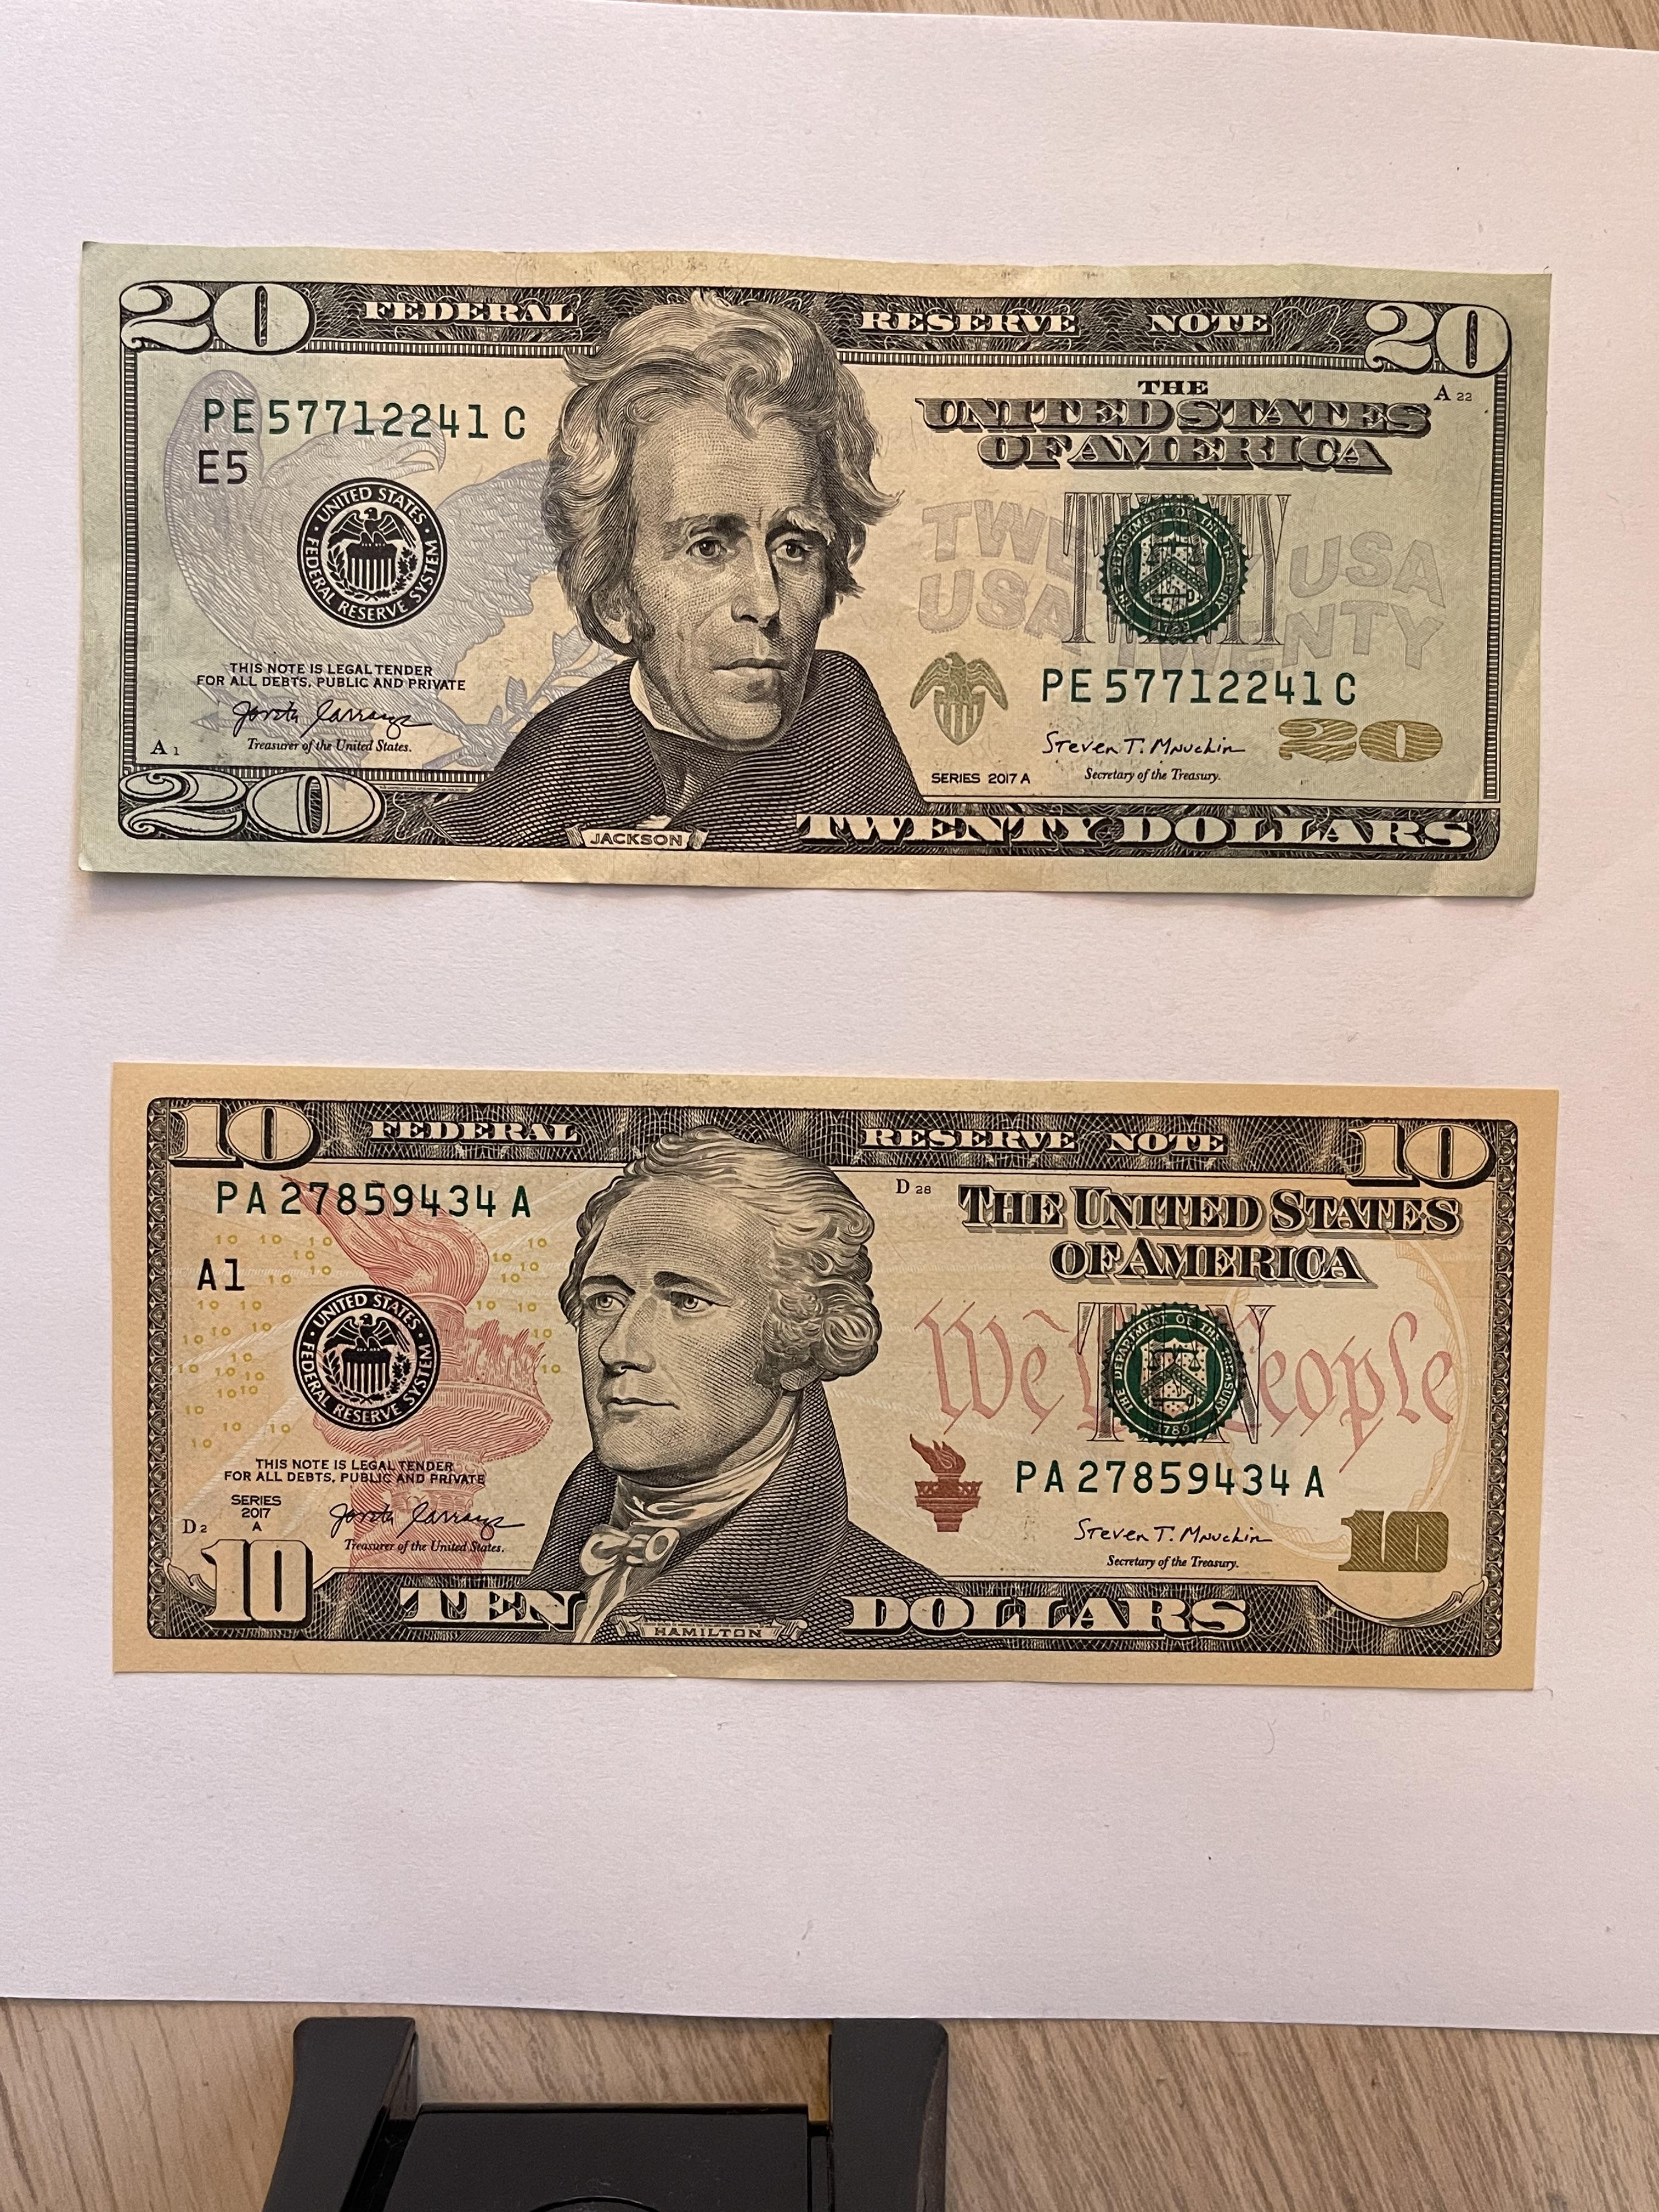TenBill: (108, 1055, 1563, 1695)
TwentyBill: (75, 237, 1556, 900)
